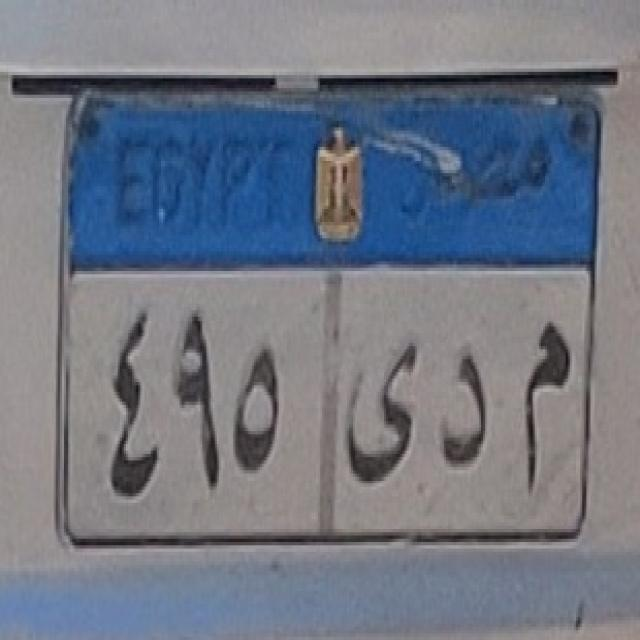4: (92, 294, 170, 514)
5: (224, 330, 292, 484)
9: (162, 298, 236, 499)
Meem: (508, 310, 580, 504)
Yeeh: (335, 314, 429, 500)
daal: (435, 329, 497, 484)
